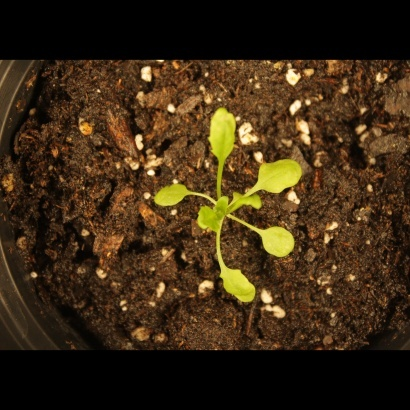leaf: (212, 256, 265, 314), (254, 155, 307, 195), (209, 100, 241, 163), (257, 220, 298, 263), (150, 177, 194, 216), (230, 189, 265, 215), (194, 203, 219, 234), (212, 192, 235, 223)
